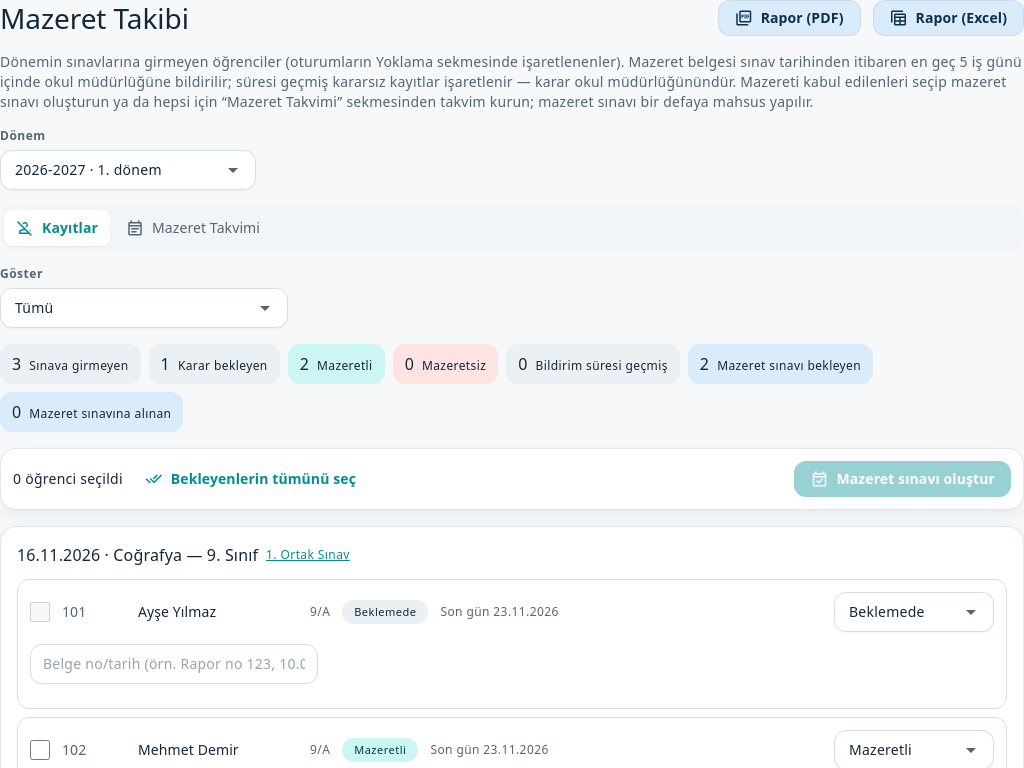
Test: MazeretTakibiPage › seçilenlerle mazeret sınavı oluşturulur ve oturuma gidilir
Click the button "Bekleyenlerin tümünü seç": (250, 479) left=135, top=461, right=366, bottom=497
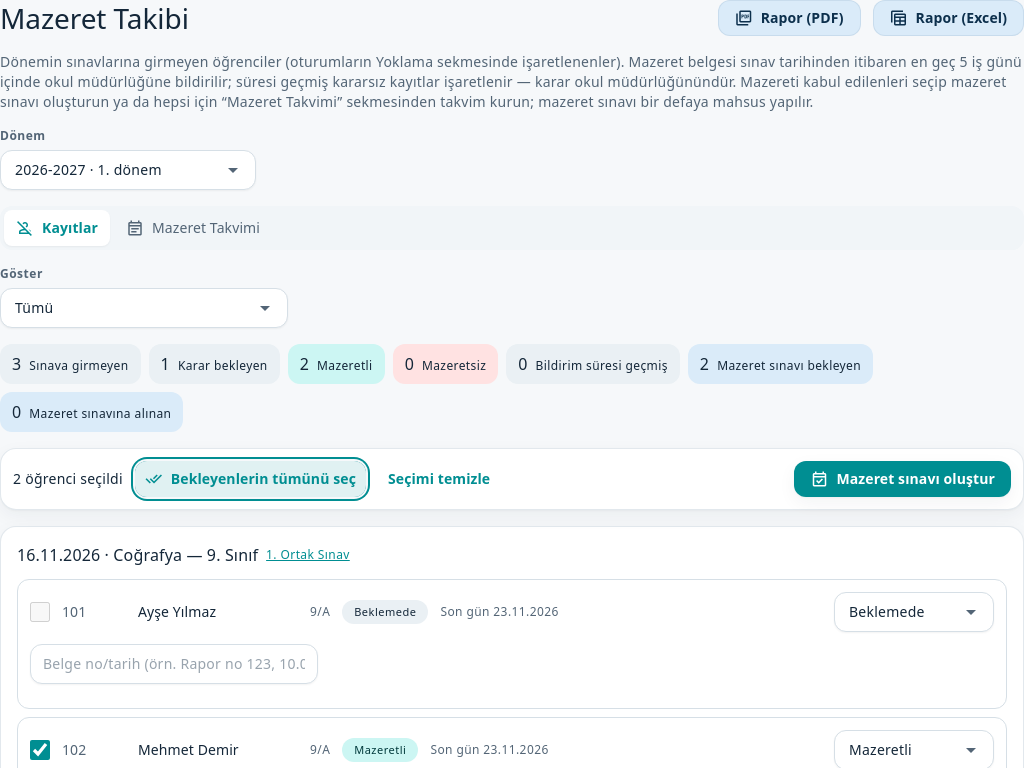
Now the text "2 öğrenci seçildi" is shown, box left=13, top=469, right=123, bottom=489
Click the button "Mazeret sınavı oluştur": (903, 479) left=794, top=461, right=1011, bottom=497
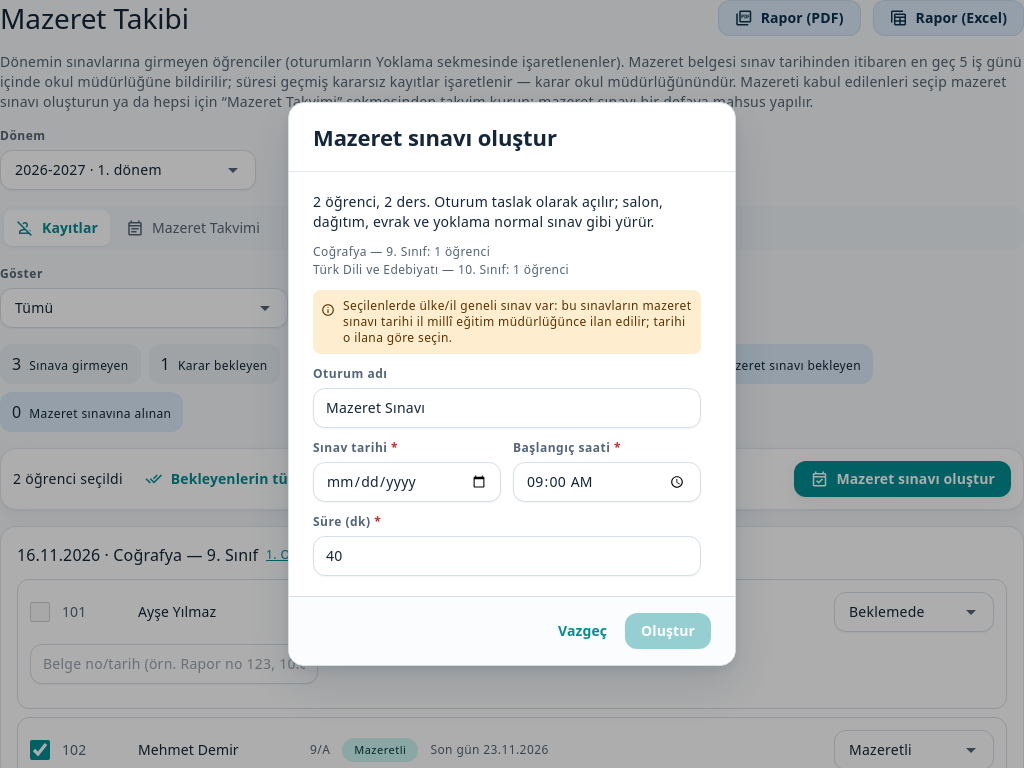
Now the text "2 öğrenci, 2 ders." is shown, box left=313, top=192, right=701, bottom=232
Now the text "il millî eğitim müdürlüğünce ilan edilir" is shown, box left=343, top=297, right=691, bottom=346
Now the button "Oluştur" is disabled, box left=625, top=613, right=711, bottom=649
In the date field labelled "Sınav tarihi *": (407, 482) left=326, top=471, right=488, bottom=493, type "2026-11-23"
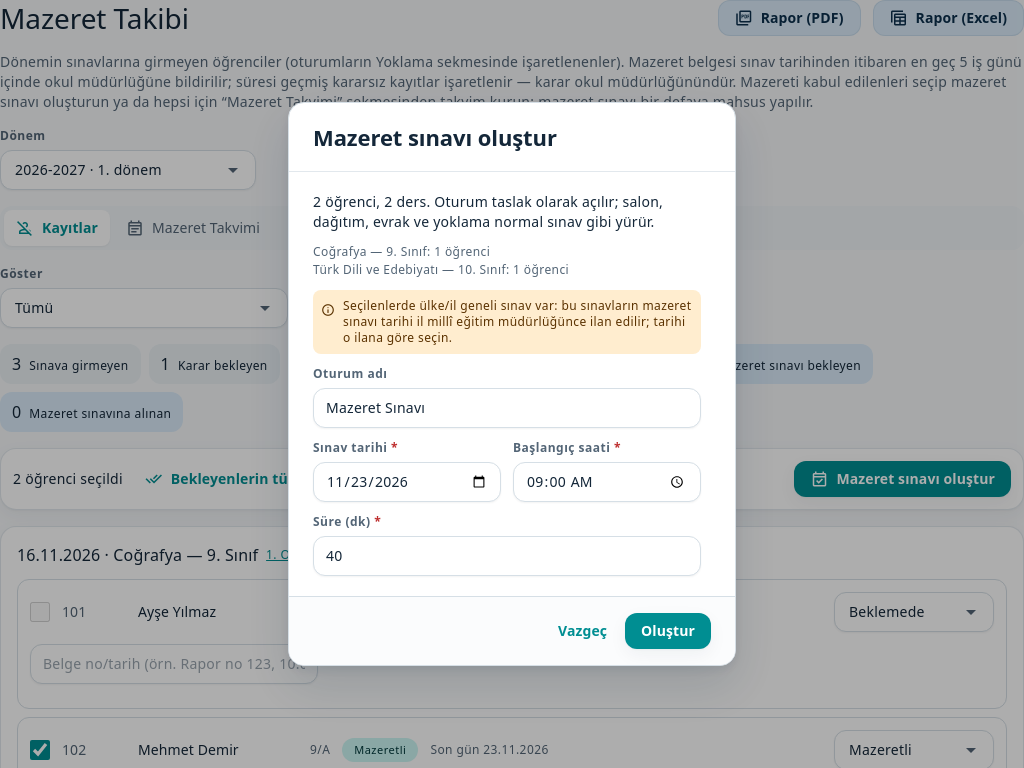
Click the button "Oluştur": (668, 631) left=625, top=613, right=711, bottom=649
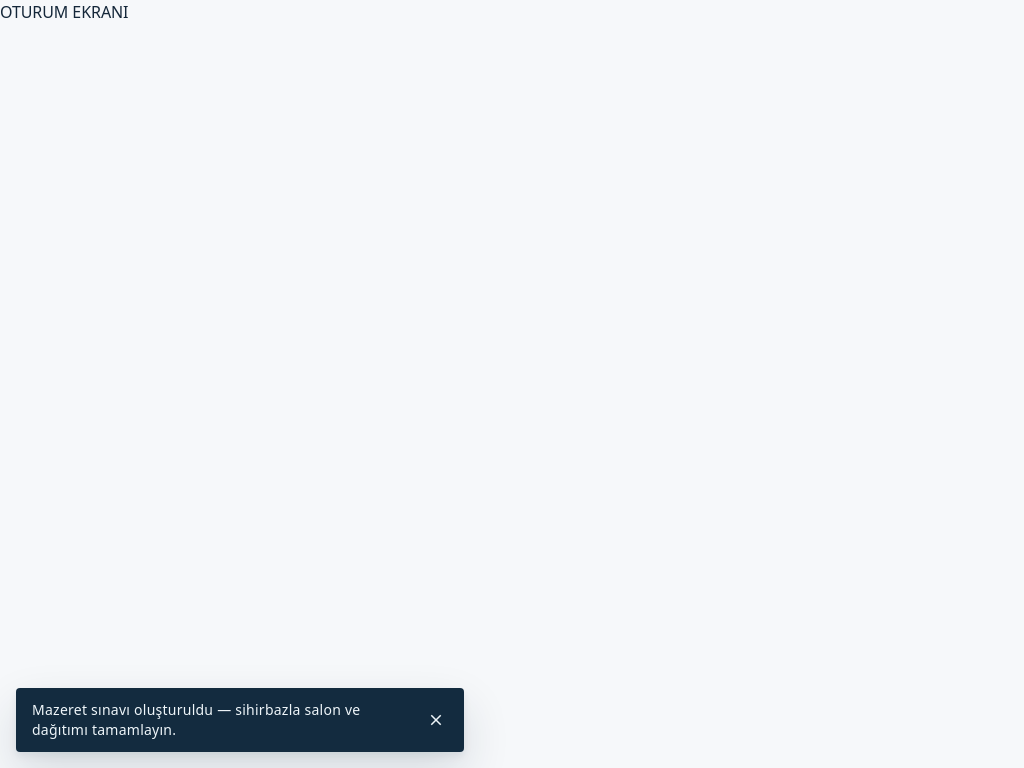
Now the text "OTURUM EKRANI" is shown, box left=0, top=1, right=128, bottom=23
